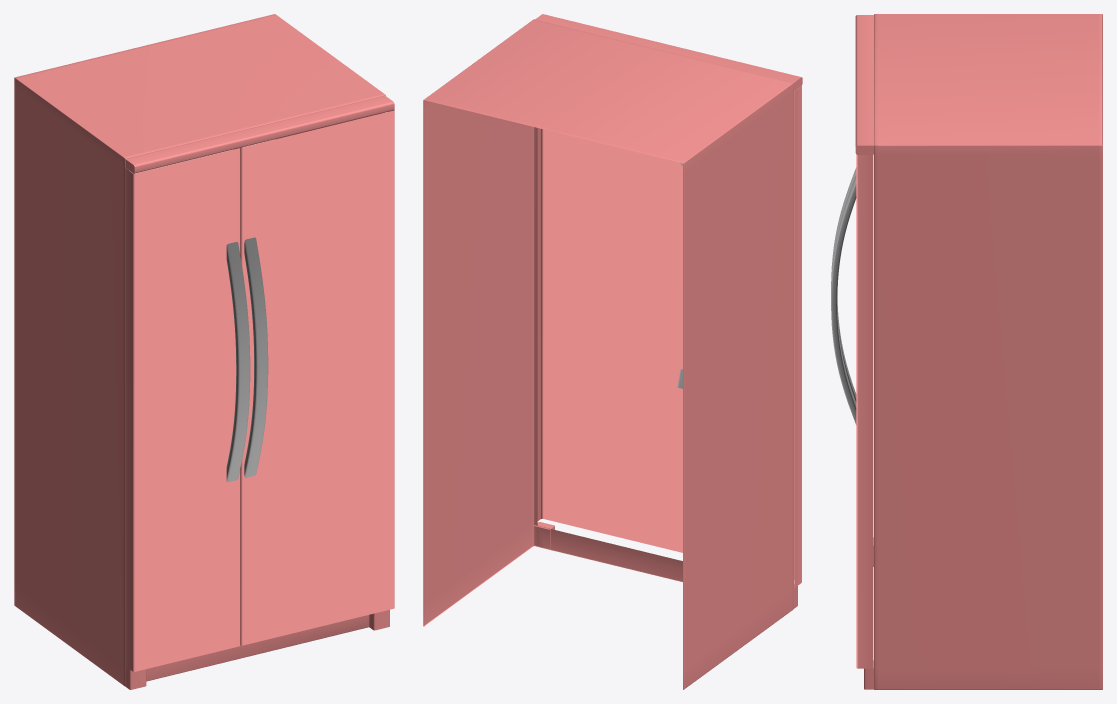
Rendered from frigo.fbx.
3 renders of one model, left to right at view 1: azimuth 30°, elevation 25°; view 2: azimuth 150°, elevation 25°; view 3: azimuth 270°, elevation 25°, orthographic. The views are drawn at different scales.
Parts seen in each view (by area): view 1: frigo:fridge_007_00; view 2: frigo:fridge_007_00; view 3: frigo:fridge_007_00.
Part boxes in pixels (left/top/right/bottom): frigo:fridge_007_00: left=14, top=14, right=394, bottom=689; frigo:fridge_007_00: left=423, top=14, right=802, bottom=689; frigo:fridge_007_00: left=831, top=14, right=1102, bottom=689.
Size of the model in its own units: 91.18 by 176 by 79.58.
